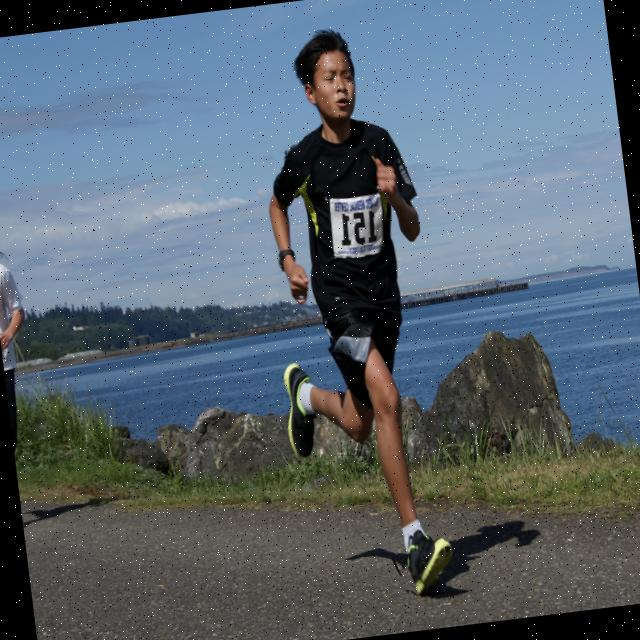Person: (240, 19, 465, 609), (0, 195, 48, 527)
